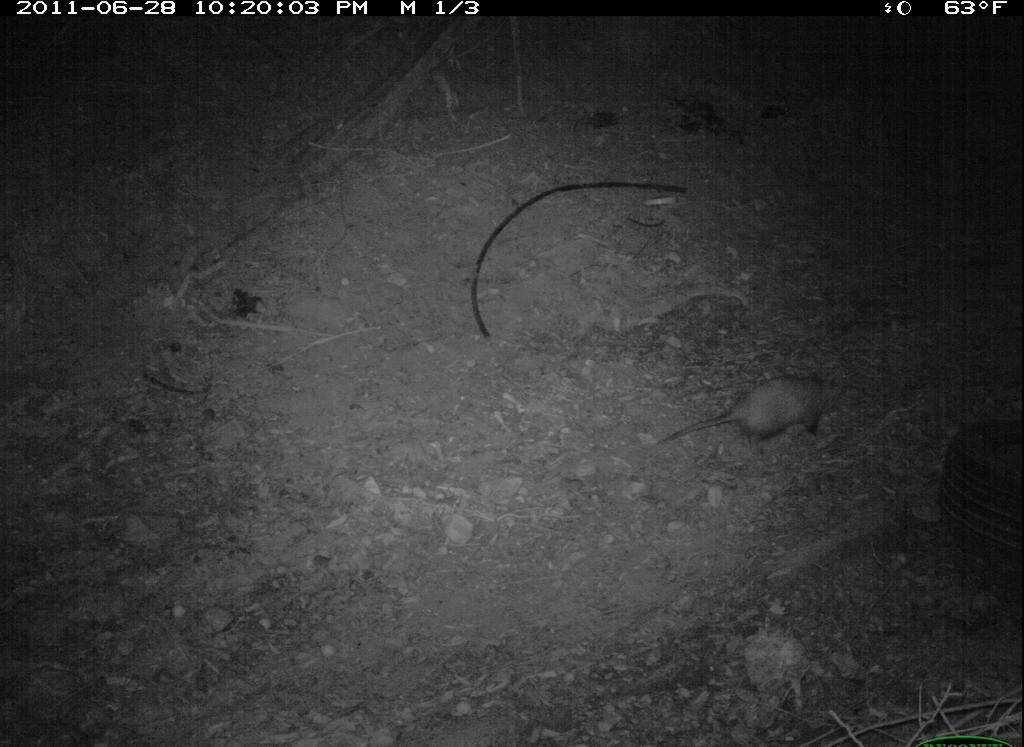opossum: (658, 361, 861, 479)
